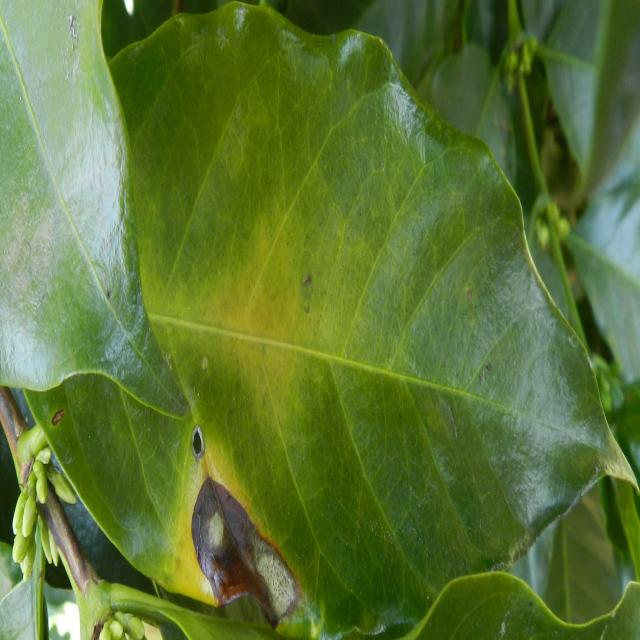Enfermedad-Mancha-de-hierro: (23, 4, 637, 640)
